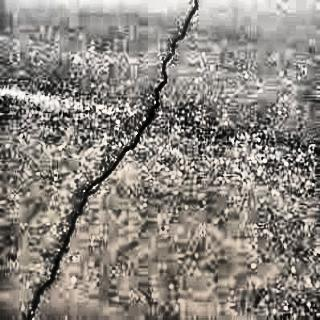crack: (20, 178, 90, 320), (84, 101, 158, 186), (150, 3, 203, 108)
